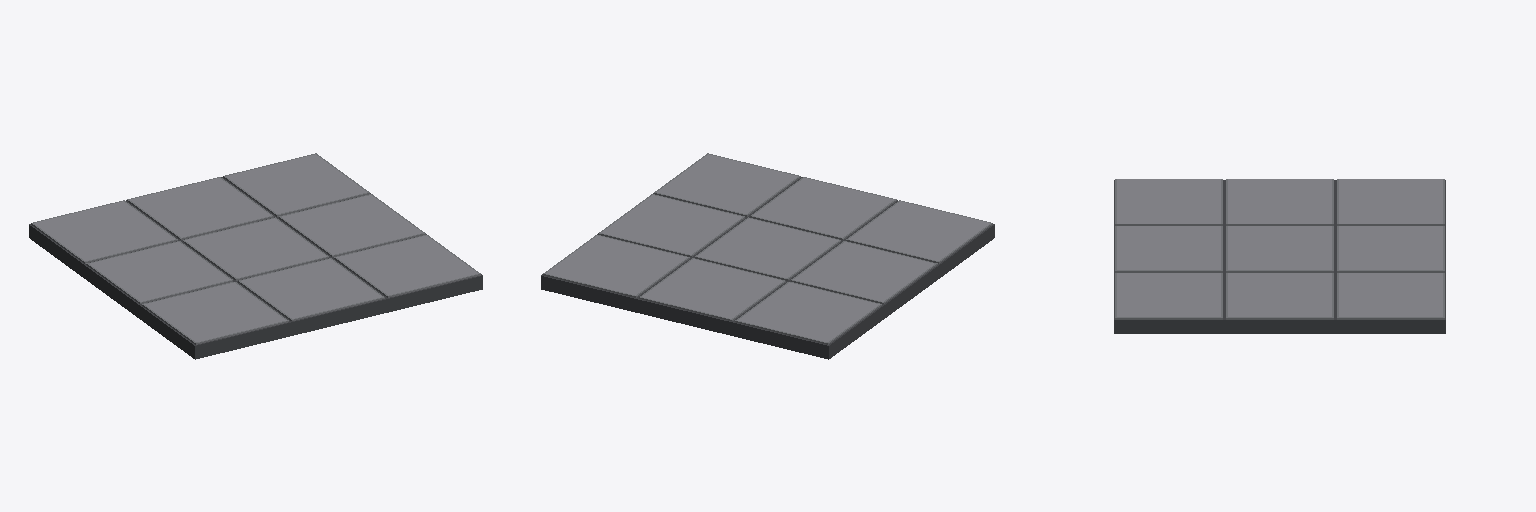
3 renders of one model, left to right at view 1: azimuth 30°, elevation 25°; view 2: azimuth 150°, elevation 25°; view 3: azimuth 270°, elevation 25°, orthographic.
Visible parts, largest first — view 1: object 1; view 2: object 1; view 3: object 1.
Boxes of the visible parts, <box> form: object 1: <box>29,153,482,359</box>; object 1: <box>541,153,994,359</box>; object 1: <box>1114,179,1445,333</box>.
Size of the model in its own units: 19.8 by 1 by 19.8.
1 materials, 1 textured.